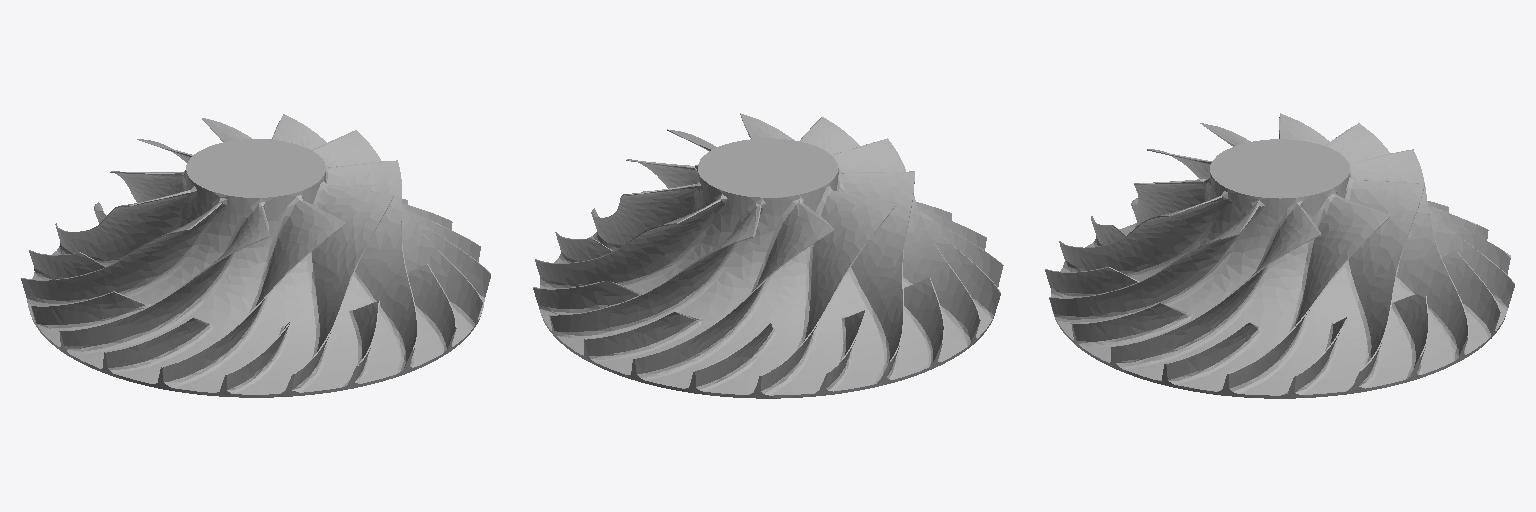
The robot description file, URDF, robot "myobj":
<robot name="myobj">
      <link name="tray_base_link">
        <inertial>
          <origin rpy="0 0 0" xyz="0 0 0"/>
          <mass value="0"/>
          <inertia ixx="0" ixy="0" ixz="0" iyy="0" iyz="0" izz="0"/>
        </inertial>
        <visual>
          <origin rpy="0 0 0" xyz="0 0 0"/>
          <geometry>
            <mesh filename="../mould/impeller.obj" scale="0.0018 0.0018 0.0018"/>
      </geometry>
          <material name="tray_material">
            <color rgba="0.7 0.7 0.7 1"/>
          </material>
        </visual>
      </link>
    </robot>

--- Render facts (derived) ---
Views: 3 orthographic renders of the robot side by side, from view 1: azimuth 30°, elevation 25°; view 2: azimuth 150°, elevation 25°; view 3: azimuth 270°, elevation 25°.
Model myobj with 1 links and 0 joints (none), rooted at tray_base_link, posed all joints at 0.
Links seen in each view (by area): view 1: tray_base_link; view 2: tray_base_link; view 3: tray_base_link.
Link boxes in pixels (x1=…): tray_base_link: x1=21, y1=114, x2=490, y2=397; tray_base_link: x1=533, y1=113, x2=1003, y2=398; tray_base_link: x1=1045, y1=113, x2=1514, y2=398.
Size in the robot's own frame: 0.4235 by 0.4232 by 0.1323 metres.
Meshes: 1 distinct files referenced, 1 mesh visuals loaded (1 OBJ).